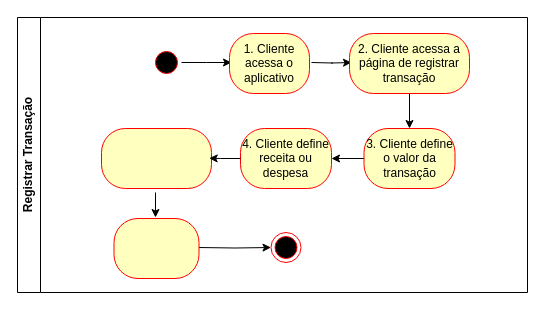
The diagram is 545 pixels wide and 310 high, and some of its shapes have lost their labels. Here are the shapes that lost their labels. From the top down, the centre of each, then its label:
the point at 156,158: 5. Cliente define a categoria da transação
the point at 156,248: 6. Cliente confirma a transação
